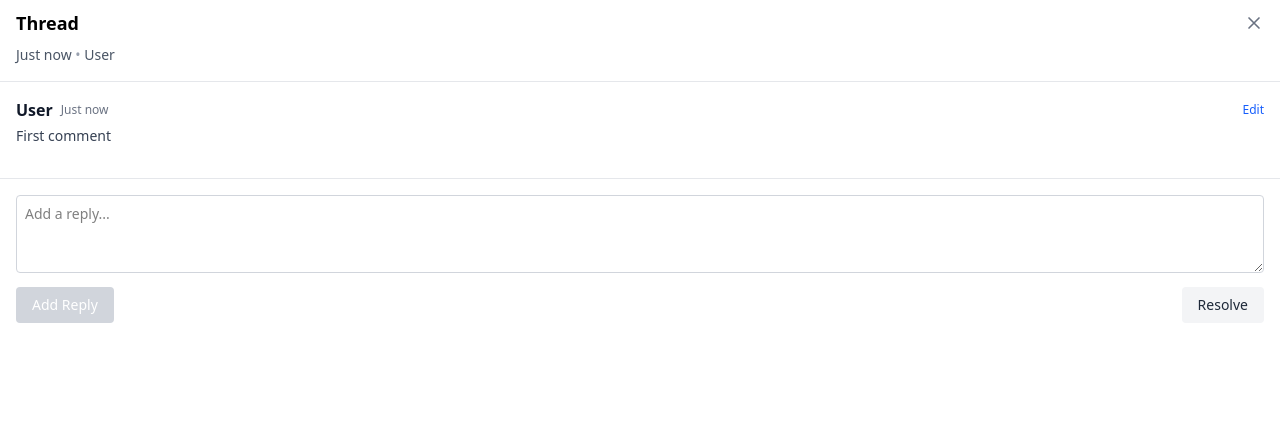
it: ThreadPanel › enters edit mode when Edit is clicked
Click the button "Edit" at (1253, 110), box [1242,102,1264,118]
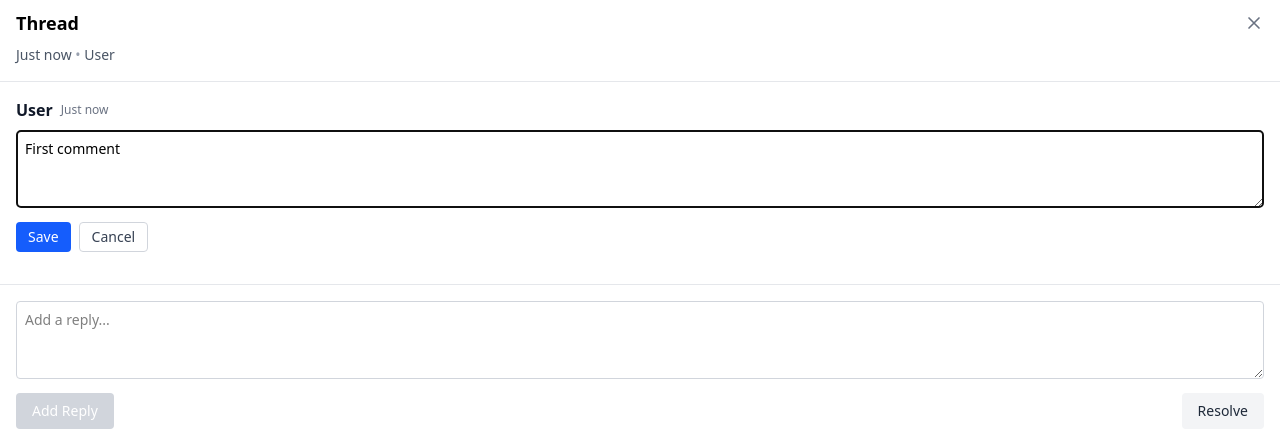
Check: the button "Save" is shown, box [16,222,71,252]
Check: the button "Cancel" is shown, box [79,222,148,252]
Check: the text box showing "First comment" is shown, box [16,130,1264,208]
